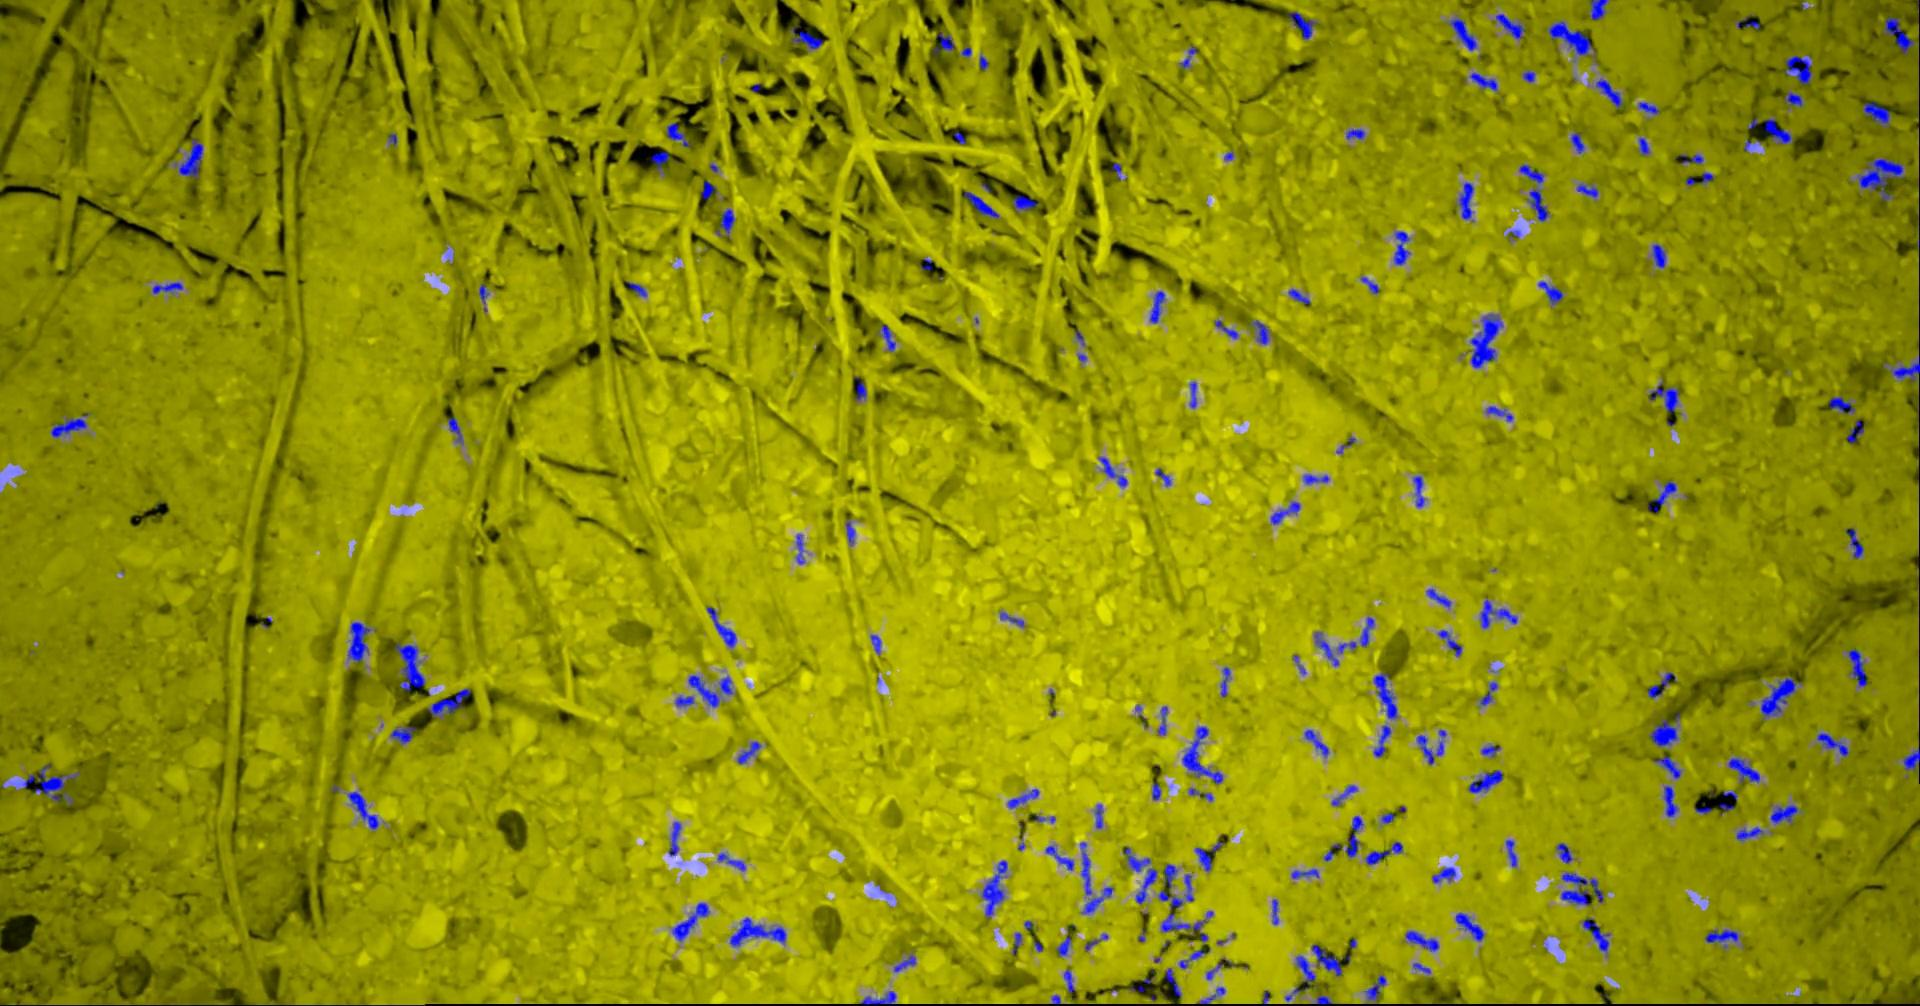ant: (22, 763, 79, 804), (1181, 727, 1222, 782), (1857, 158, 1903, 199), (1469, 314, 1502, 367), (1760, 677, 1801, 718), (729, 917, 785, 946), (1158, 862, 1192, 908), (1548, 20, 1592, 55), (982, 860, 1007, 917), (670, 902, 709, 940), (1284, 955, 1316, 1001), (394, 643, 424, 690), (1559, 873, 1603, 904), (1884, 17, 1919, 55), (706, 606, 737, 647), (347, 791, 378, 829), (347, 621, 375, 662), (428, 688, 469, 716), (1373, 672, 1397, 718), (1479, 600, 1516, 627), (687, 674, 719, 706), (1416, 729, 1445, 763), (963, 191, 998, 218), (1310, 944, 1341, 976), (178, 137, 202, 177), (1647, 480, 1676, 512), (1194, 840, 1223, 871), (50, 413, 88, 437), (1582, 917, 1609, 951), (1161, 913, 1205, 934), (1449, 17, 1476, 50), (1650, 382, 1679, 412), (1455, 912, 1484, 941), (1365, 841, 1402, 864), (1314, 631, 1338, 666), (1468, 768, 1502, 793), (1595, 79, 1623, 108), (1098, 457, 1126, 486), (1648, 718, 1677, 746), (1727, 757, 1759, 782), (1288, 11, 1316, 39), (1784, 55, 1811, 84), (1890, 354, 1919, 381), (1647, 671, 1676, 697), (1083, 887, 1112, 913), (1816, 732, 1848, 756), (789, 25, 822, 48), (1345, 815, 1363, 857), (1495, 13, 1524, 38), (1764, 118, 1793, 144), (1135, 868, 1156, 903), (1526, 188, 1548, 221), (1404, 930, 1437, 951), (1045, 845, 1073, 870), (1270, 500, 1299, 525), (1848, 648, 1865, 687), (1124, 846, 1150, 871), (1862, 102, 1890, 126), (1704, 929, 1738, 948), (1437, 629, 1462, 655), (1304, 729, 1328, 756), (1007, 788, 1037, 808), (1178, 948, 1209, 968), (665, 122, 690, 147), (1653, 756, 1680, 779), (1079, 842, 1091, 894), (1458, 182, 1473, 220), (1393, 231, 1410, 265), (1373, 724, 1390, 756), (858, 989, 895, 1005), (1538, 281, 1562, 304), (1331, 785, 1357, 805), (715, 208, 734, 236), (1770, 804, 1798, 823), (737, 741, 759, 763), (1130, 969, 1153, 992), (1364, 976, 1385, 1000), (1845, 528, 1863, 558), (1197, 986, 1224, 1005), (1149, 290, 1164, 323), (1469, 72, 1497, 90), (717, 852, 745, 870), (1250, 319, 1269, 344), (1164, 967, 1181, 996), (877, 324, 895, 351), (1178, 44, 1197, 69), (1519, 164, 1543, 183), (1426, 588, 1450, 607), (390, 725, 415, 743), (933, 32, 952, 55), (1214, 319, 1237, 338), (668, 821, 681, 855), (1479, 681, 1497, 705), (1663, 785, 1677, 815), (1829, 396, 1854, 413), (1360, 617, 1374, 647), (1484, 406, 1512, 420), (1735, 826, 1763, 840), (1589, 0, 1608, 20), (650, 151, 669, 171), (1012, 196, 1037, 211), (447, 417, 462, 442), (1846, 419, 1863, 442), (1084, 934, 1107, 950), (152, 281, 182, 293), (1288, 288, 1310, 304), (1903, 747, 1919, 770), (893, 955, 916, 970), (999, 612, 1023, 626), (1556, 842, 1572, 862), (625, 281, 646, 296), (1413, 475, 1423, 507), (1432, 868, 1455, 882), (1360, 276, 1378, 293), (700, 180, 716, 199), (1220, 666, 1230, 696), (1652, 243, 1665, 267), (1505, 840, 1516, 866), (1576, 183, 1597, 197), (1736, 17, 1759, 29), (853, 376, 866, 399), (1189, 788, 1211, 800), (1570, 132, 1583, 152), (1157, 706, 1167, 734), (1057, 935, 1070, 955), (477, 285, 488, 311), (1154, 467, 1170, 485), (795, 533, 804, 564), (1291, 868, 1318, 878), (1783, 91, 1802, 105), (1063, 969, 1074, 992), (1638, 102, 1658, 114), (1303, 474, 1328, 484), (1675, 154, 1703, 163), (717, 676, 731, 694), (844, 520, 855, 544), (1336, 641, 1356, 653), (1638, 137, 1650, 155), (676, 695, 693, 706), (1481, 744, 1498, 756), (1012, 932, 1021, 955), (1345, 128, 1364, 138), (1189, 381, 1196, 406), (870, 634, 880, 653), (1095, 803, 1102, 828), (1150, 781, 1161, 799), (1316, 995, 1332, 1005), (1523, 70, 1535, 83), (952, 131, 965, 144), (1700, 171, 1713, 184), (919, 258, 932, 271), (1380, 812, 1394, 823), (1271, 899, 1277, 923)
